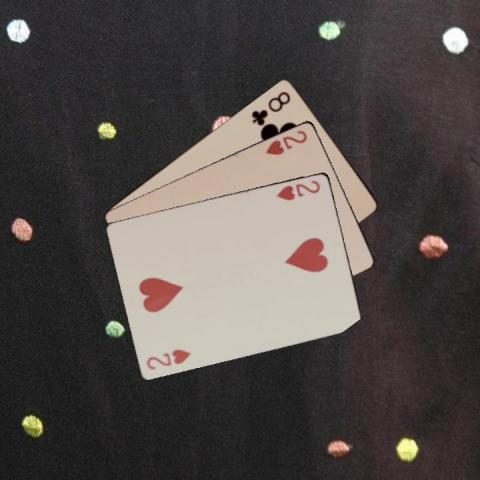2h: (262, 127, 309, 156), (143, 345, 193, 371), (274, 177, 322, 202)
8c: (248, 88, 292, 126)
